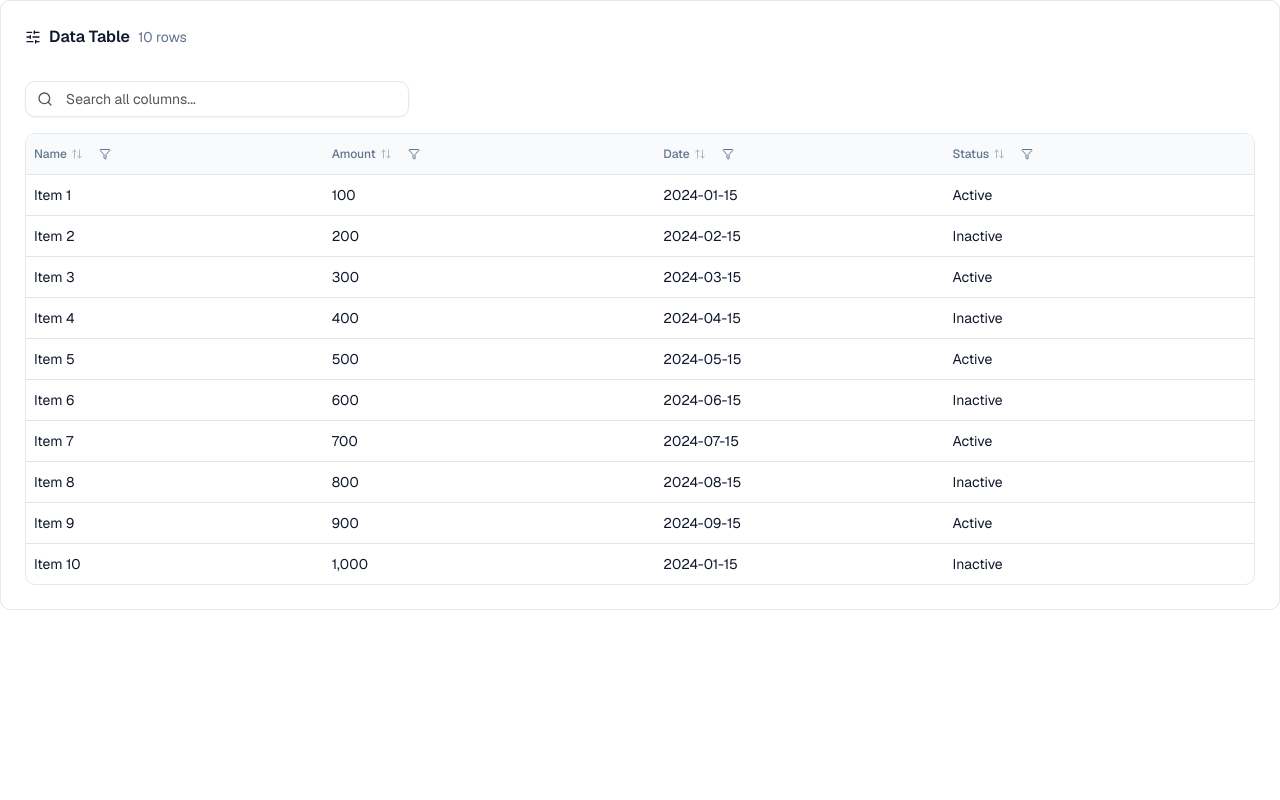
it: ReportDataTable Component › row count display › shows filtered count when filters active
The width and height of the screenshot is (1280, 800).
Type "Item 1" into the search field with test id "global-search-input". click: [217, 99]
box: [25,81,409,117]
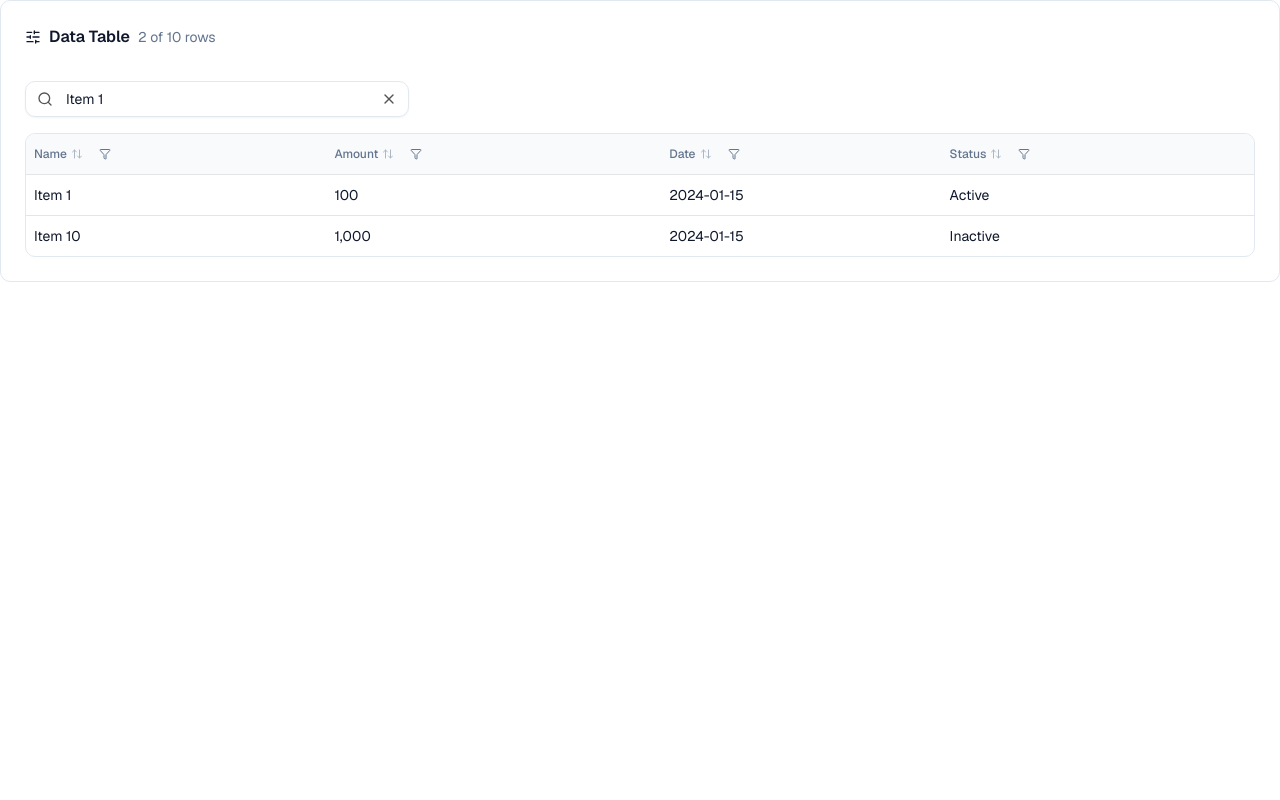
Expected: the text "2 of 10 rows" is shown, [138,27,216,47]
